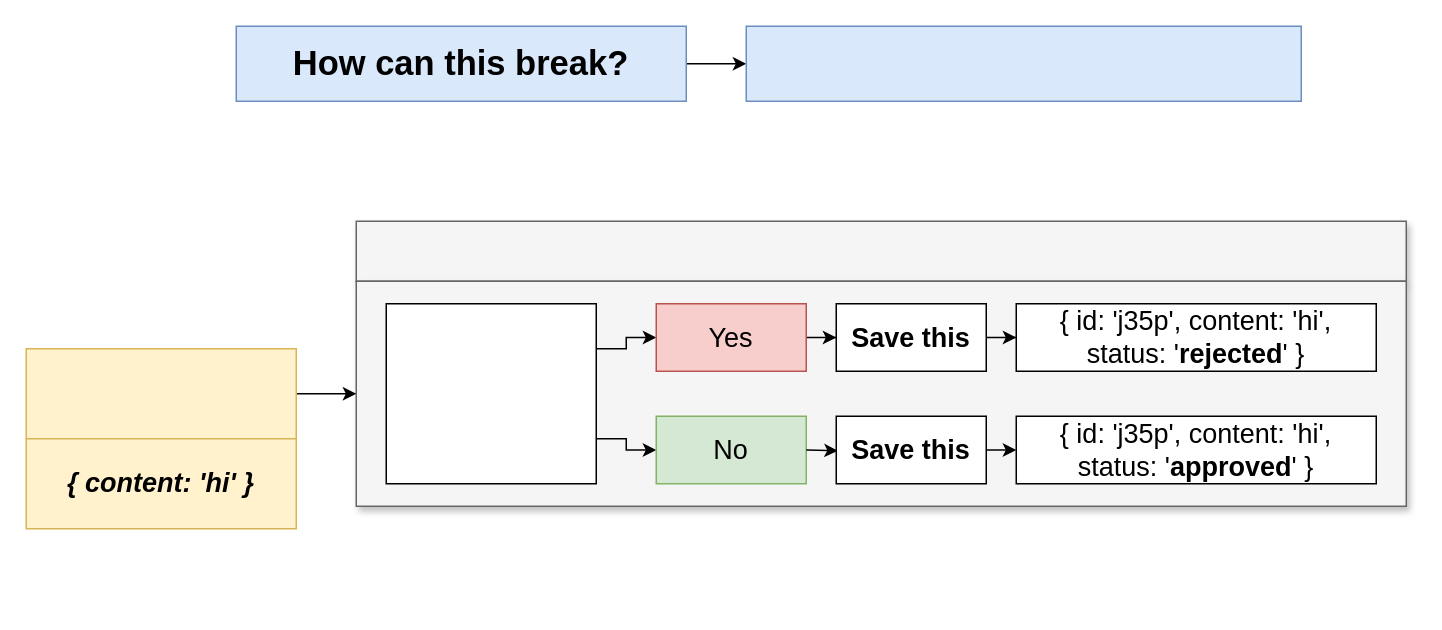
Image size: 1442x630. Some labels were removed from this diagram. The shapes that lost their labels are listed below. From the top down, each one's centre as x and y in pixels, then its label:
At point 1023,63: "What are the consequences?".
At point 882,253: "Monolith Blog".
At point 160,393: "User creates a comment".
At point 490,393: "Does the comment contain the word 'orange'?".
